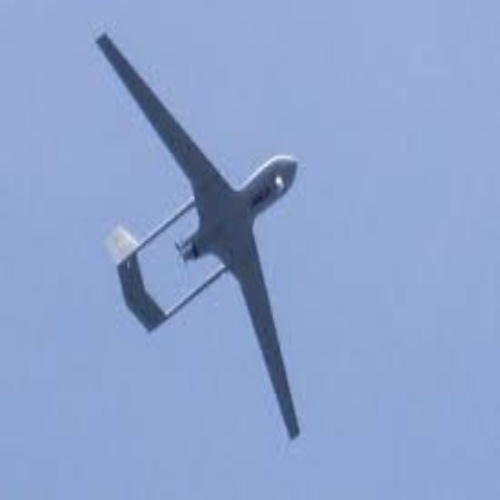uav399: (91, 31, 301, 440)
